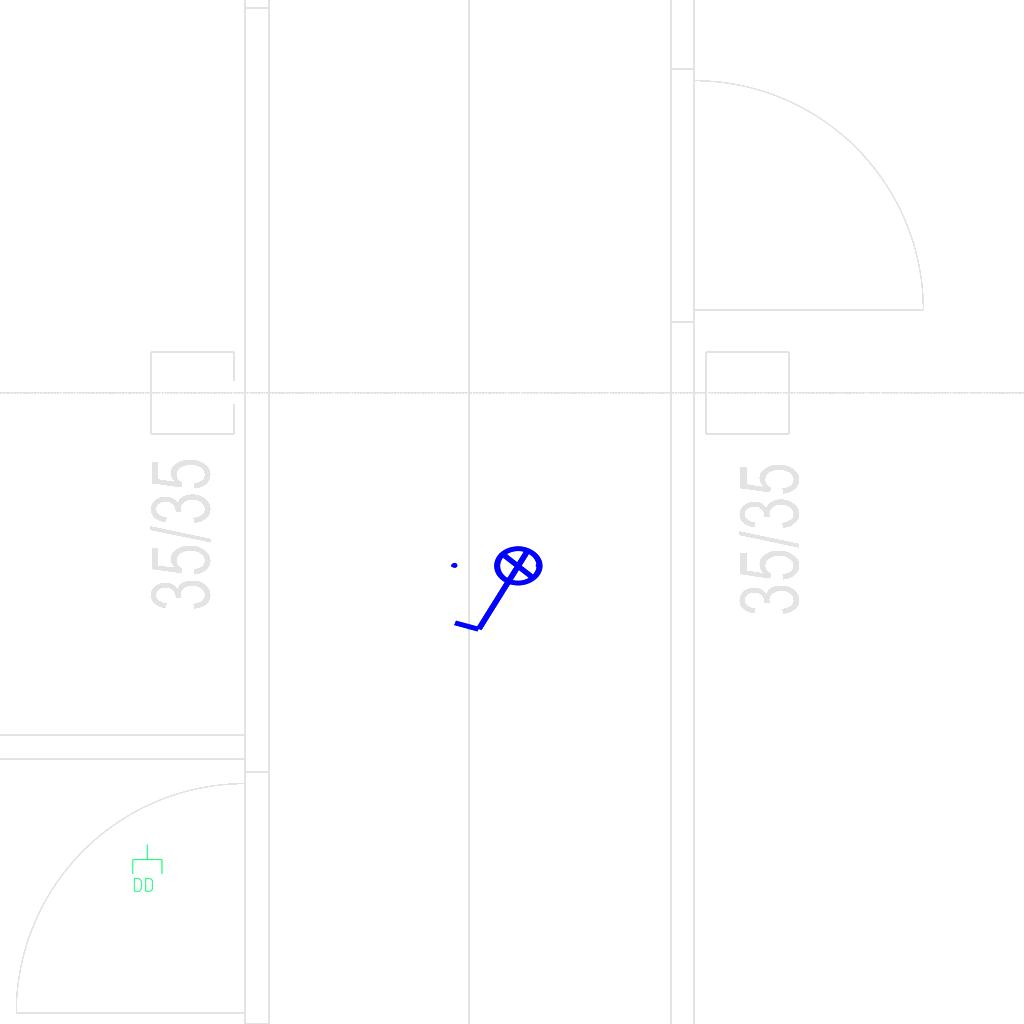Ausschalter_beleuchtet: (445, 544, 557, 640)
Datenanschluss_zweifach: (130, 843, 164, 894)
